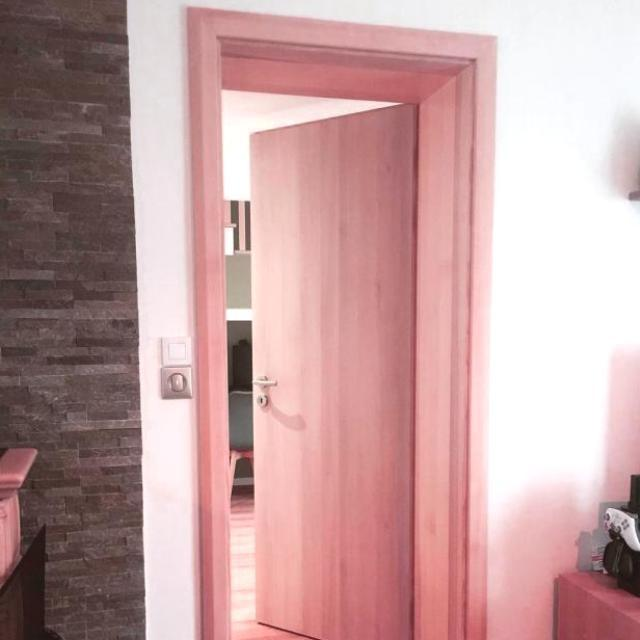door: (248, 101, 418, 638)
